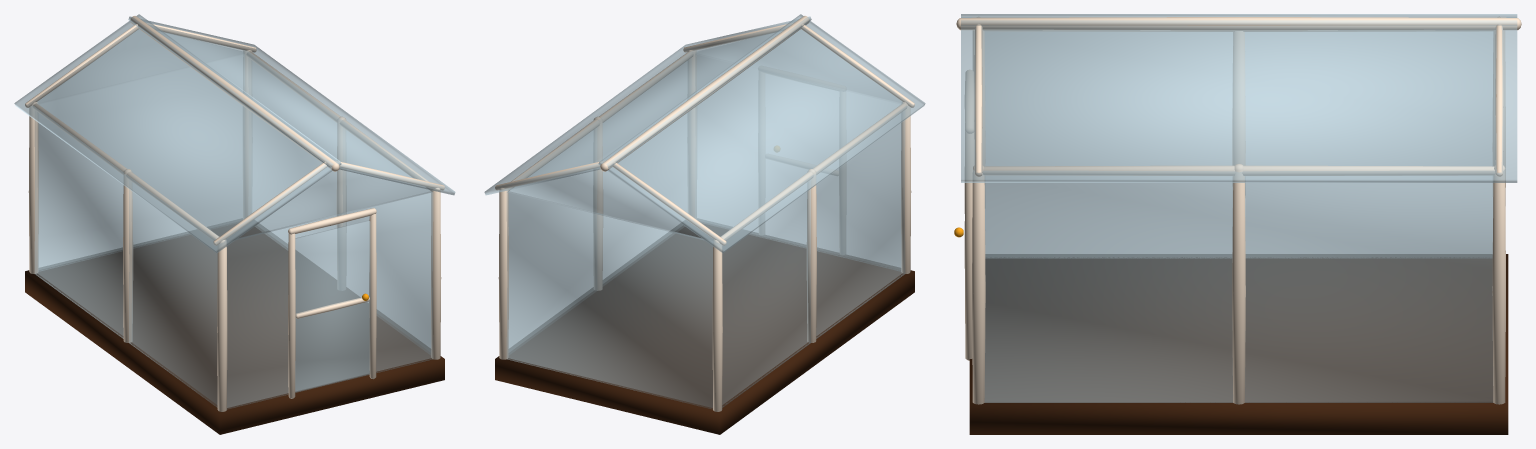
The model's file is gewaechshaus.glb.
3 renders of one model, left to right at view 1: azimuth 30°, elevation 25°; view 2: azimuth 150°, elevation 25°; view 3: azimuth 270°, elevation 25°, orthographic. The views are drawn at different scales.
Visible parts, largest first — view 1: GewaechshausGlas, GewaechshausGestell, GewaechshausDach; view 2: GewaechshausGlas, GewaechshausGestell, GewaechshausDach; view 3: GewaechshausGlas, GewaechshausGestell, GewaechshausDach.
Part boxes in pixels (x1,y1,x2,y2): GewaechshausGlas: (35, 30, 433, 409); GewaechshausGestell: (25, 16, 444, 434); GewaechshausDach: (14, 14, 455, 252); GewaechshausGlas: (506, 30, 904, 409); GewaechshausGestell: (495, 16, 914, 434); GewaechshausDach: (484, 14, 925, 252); GewaechshausGlas: (984, 32, 1493, 402); GewaechshausGestell: (954, 17, 1521, 434); GewaechshausDach: (961, 14, 1517, 182).
Size of the model in its own units: 2.13 by 2.1 by 3.16.
3 materials, 1 textured.
